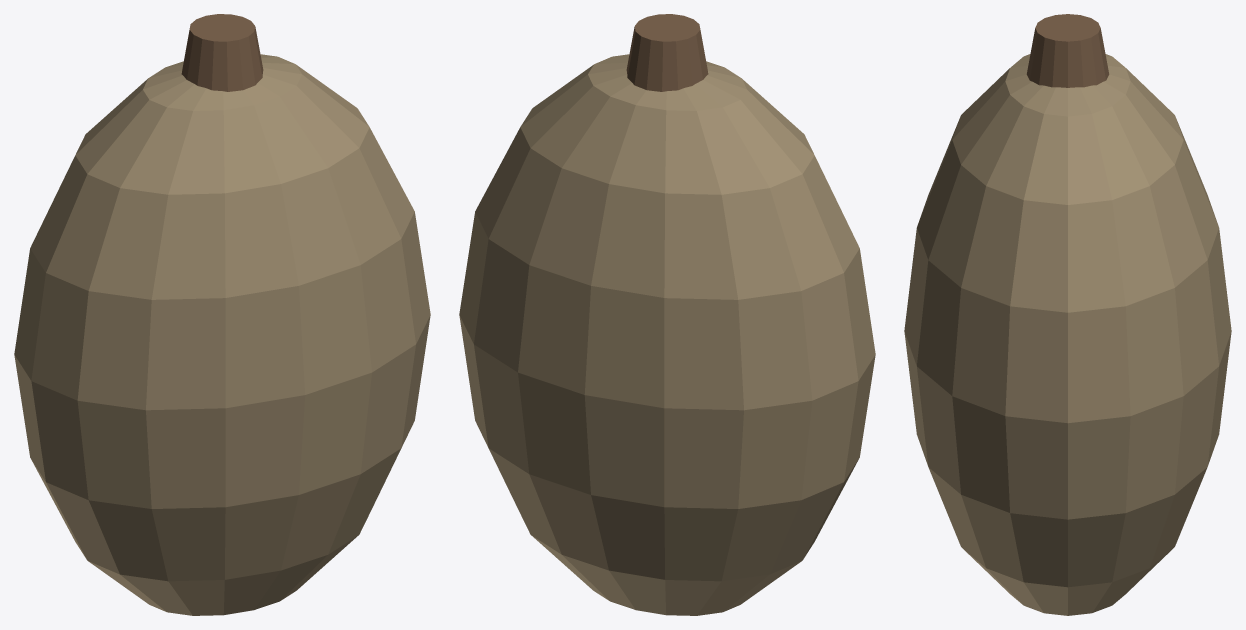
File: SM_Henhouse_FeedSack_A.fbx
3 views of the same model, side by side, from view 1: azimuth 30°, elevation 25°; view 2: azimuth 150°, elevation 25°; view 3: azimuth 270°, elevation 25° (orthographic).
Visible parts, largest first — view 1: SM_Henhouse_FeedSack_A; view 2: SM_Henhouse_FeedSack_A; view 3: SM_Henhouse_FeedSack_A.
Boxes of the visible parts, x1,y1,x2,y2 form: SM_Henhouse_FeedSack_A: [14, 14, 430, 615]; SM_Henhouse_FeedSack_A: [459, 14, 875, 615]; SM_Henhouse_FeedSack_A: [904, 14, 1231, 615].
Size of what is drawn, in the model's own units: 45 by 60 by 87.
